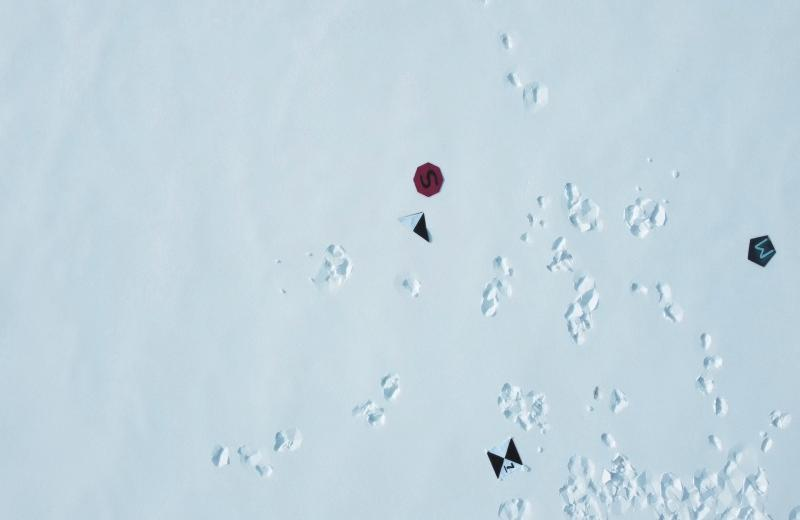Octagon: (410, 154, 449, 199)
Pentagon: (742, 231, 778, 268)
